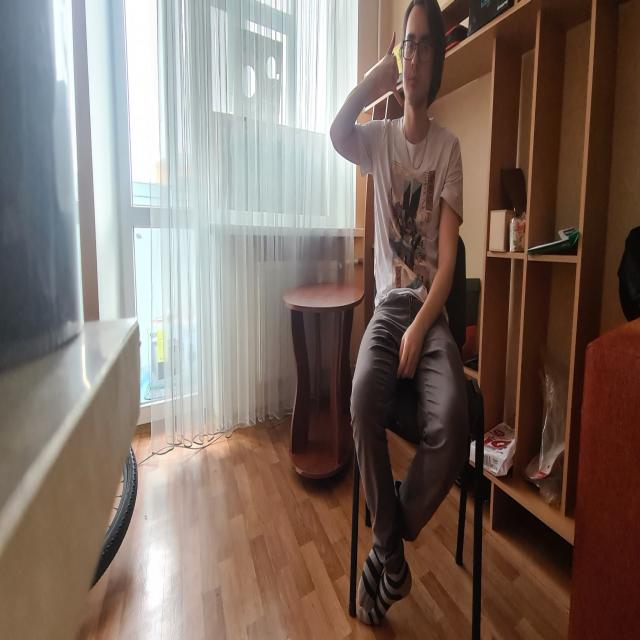call: (379, 29, 406, 112)
